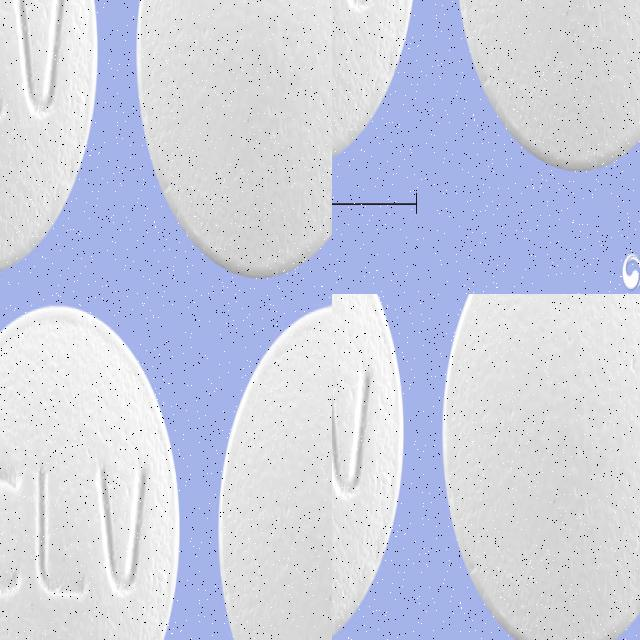Clamycin: (0, 486, 230, 640), (205, 294, 332, 559)
Clarid - 250mg: (332, 0, 461, 176)
Clevote: (440, 294, 640, 640), (332, 294, 404, 640)
Cycin: (0, 3, 144, 277), (123, 0, 332, 83)
